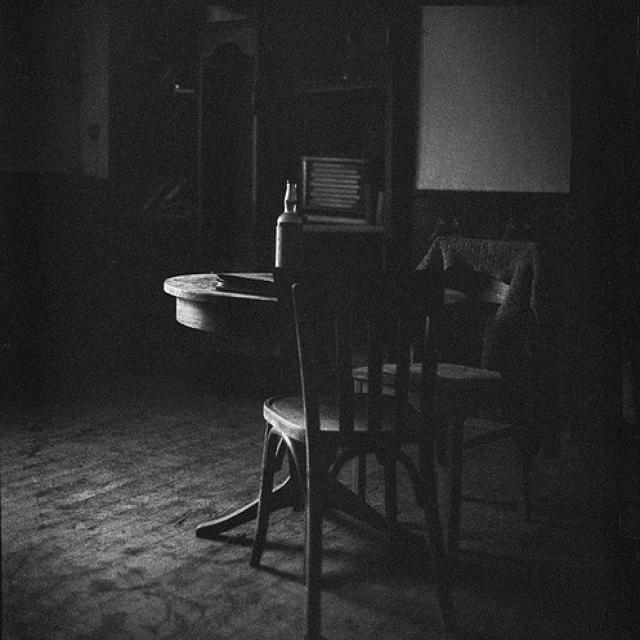Bottle: (259, 173, 309, 281)
Table: (147, 206, 450, 562)
chair: (275, 265, 474, 638), (440, 216, 604, 461)
